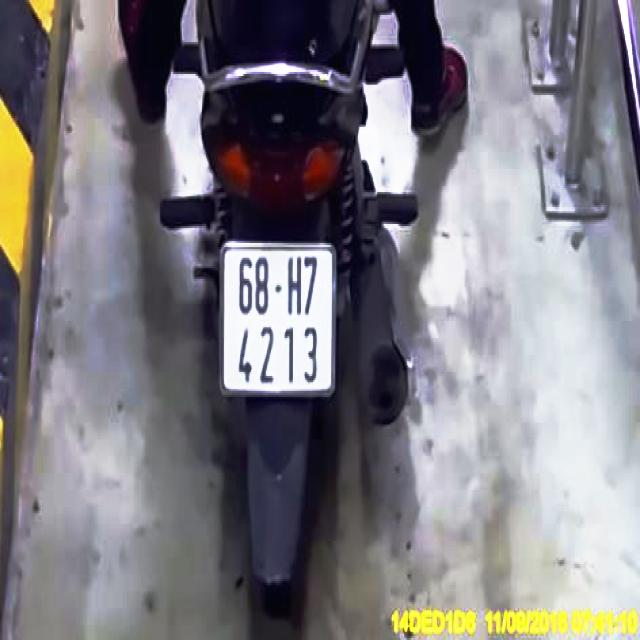license_plate: (223, 242, 335, 396)
